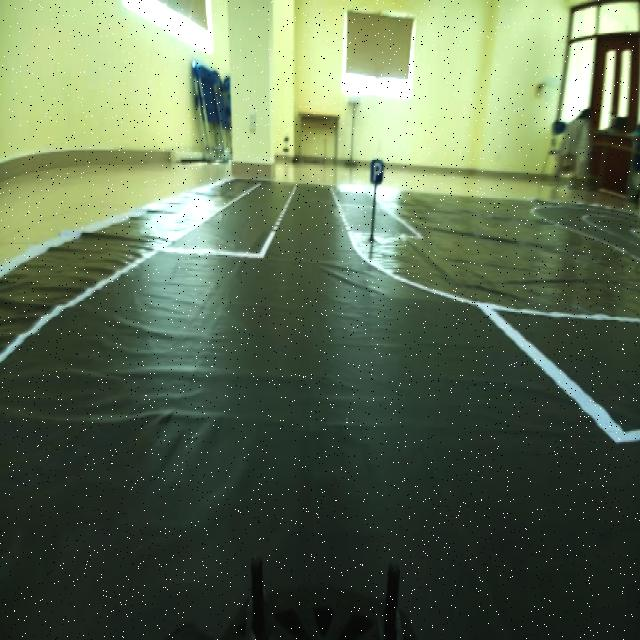parking: (364, 154, 390, 192)
